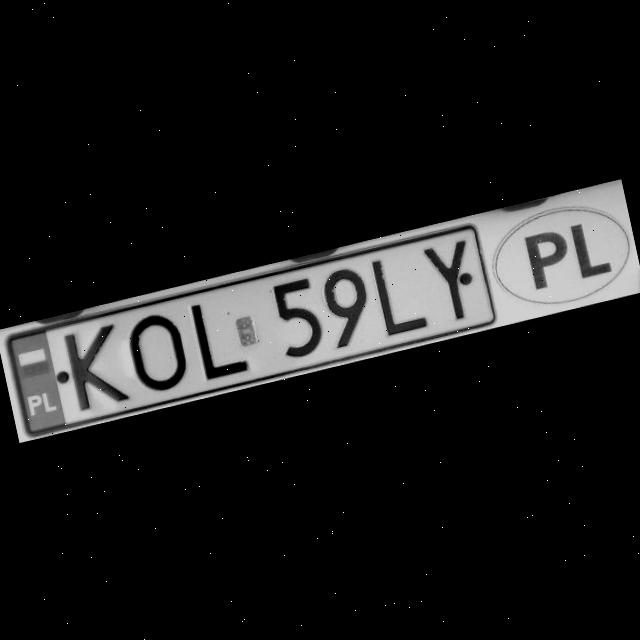license-plates: (8, 225, 496, 434)
